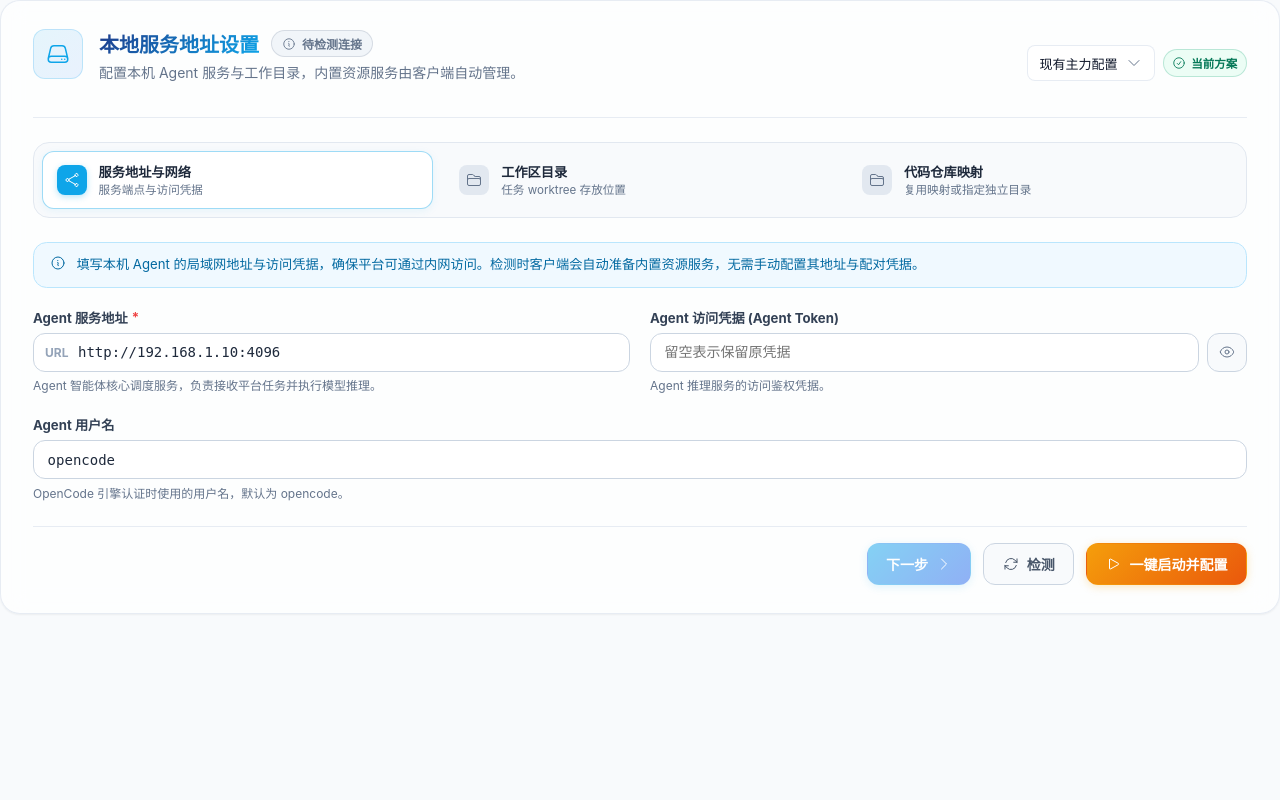
LocalServiceForm Component (Scheme 2: Stepper Flow with BaseSelect) › shows save failure without reporting successful save or failed connection
Click the button "检测".
click(1029, 564)  # box [983, 543, 1074, 585]
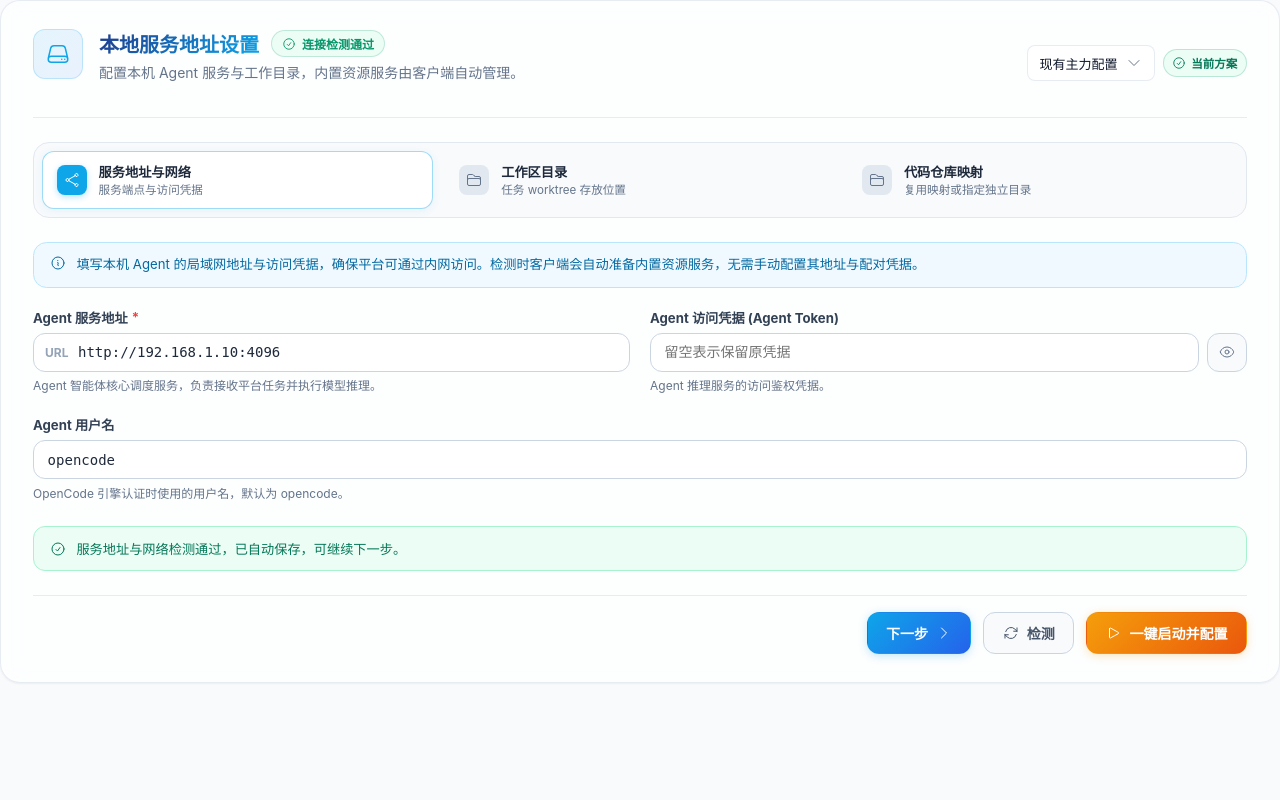
Click the button with class "stepper-item" showing "代码仓库映射 复用映射或指定独立目录".
click(943, 172)  # box [847, 151, 1238, 209]
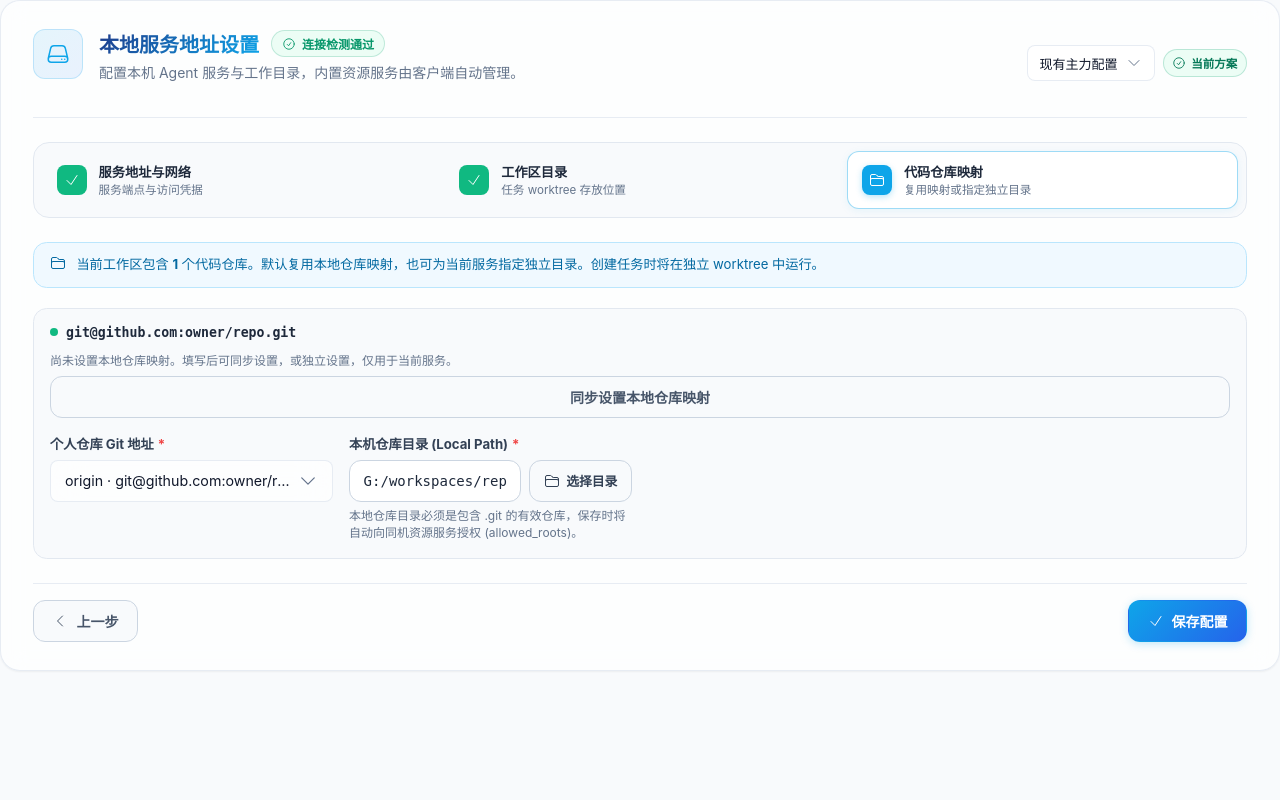
Submit the form, box [33, 142, 1247, 642]
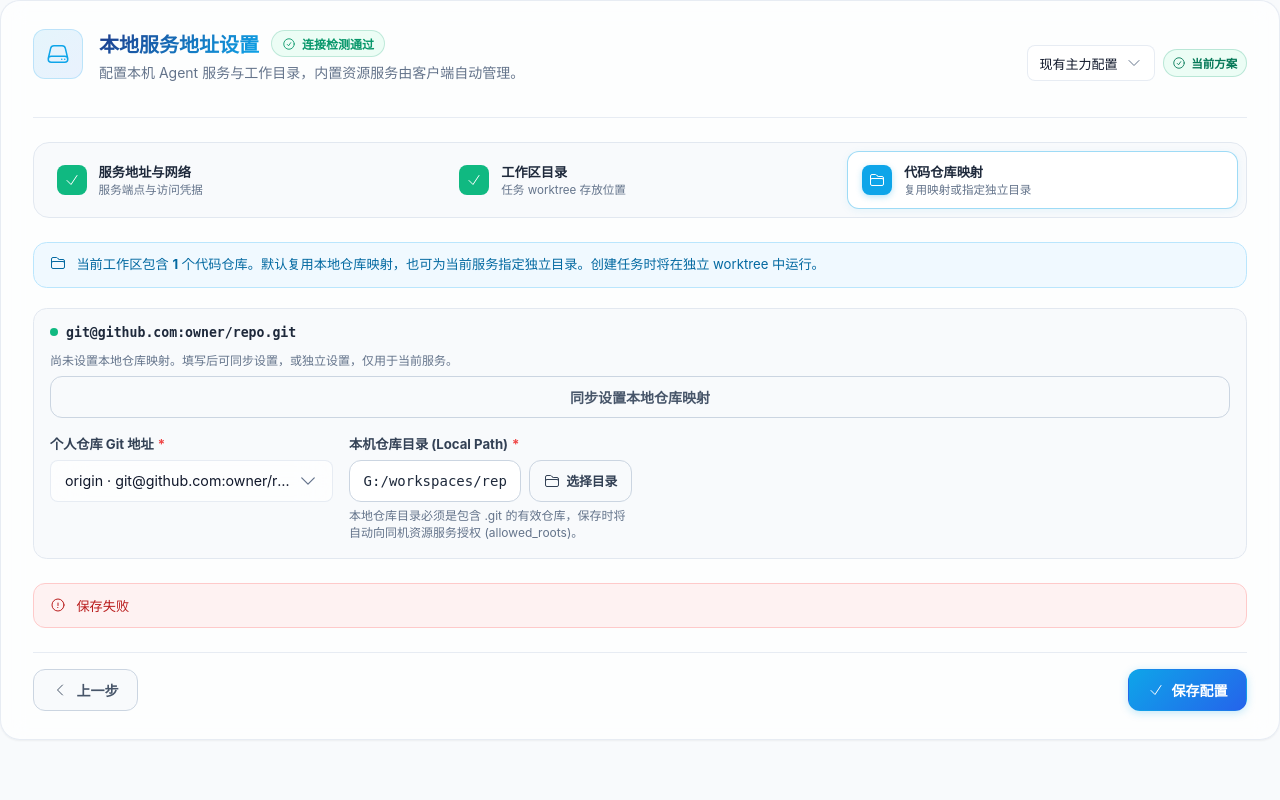
Check: the message with class "status-badge" reads "连接检测通过", box [302, 37, 374, 52]
Check: the message "保存失败" is shown, box [33, 582, 1247, 628]
